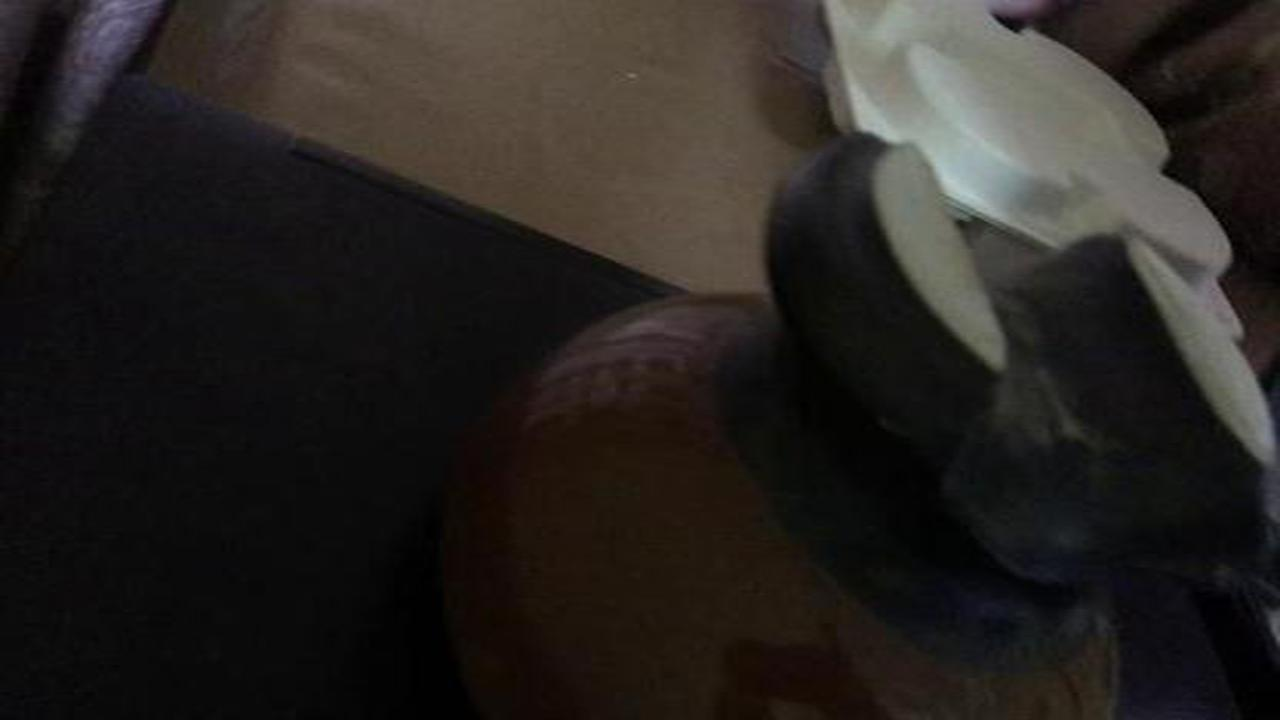insulator_pin: (412, 125, 1274, 708)
